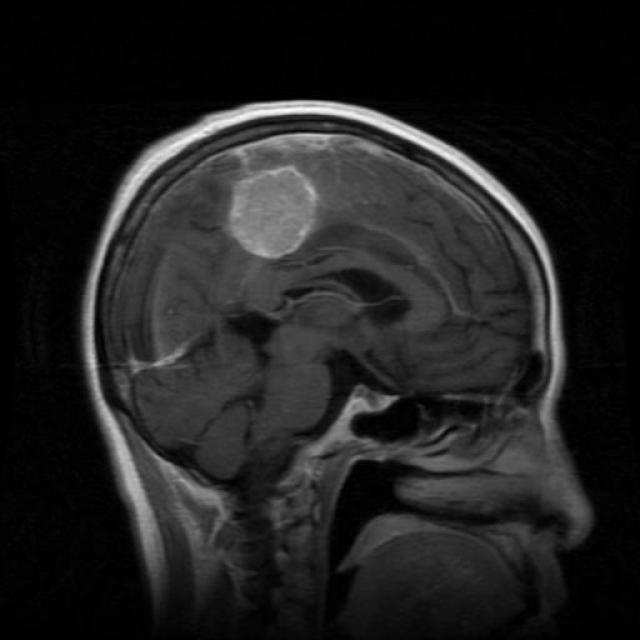meningioma: (226, 166, 319, 259)
